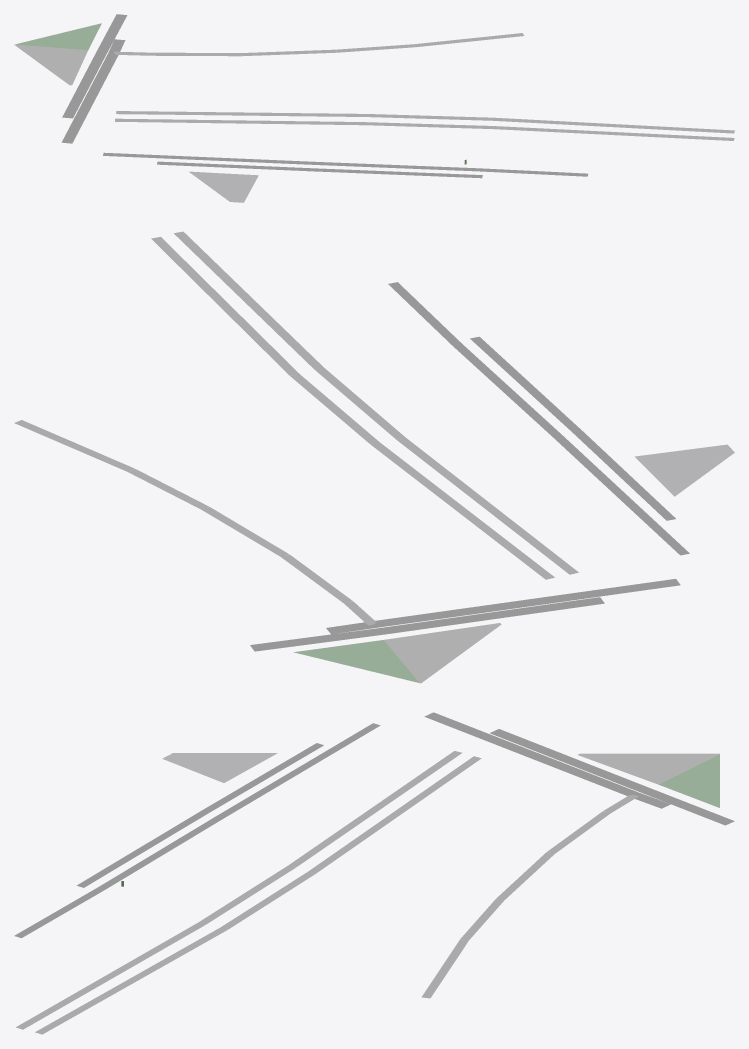
3 views of the same model, one above another, from view 1: azimuth 30°, elevation 25°; view 2: azimuth 150°, elevation 25°; view 3: azimuth 270°, elevation 25° (orthographic). The views are drawn at different scales.
Bounding box in the file's own units: 565 × 5.84 × 537.
